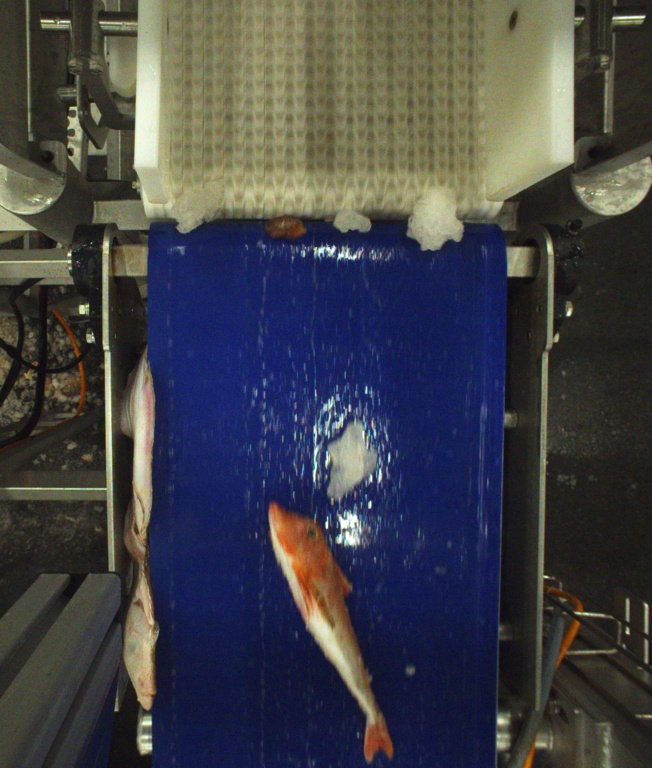GUU: (266, 498, 396, 768)
